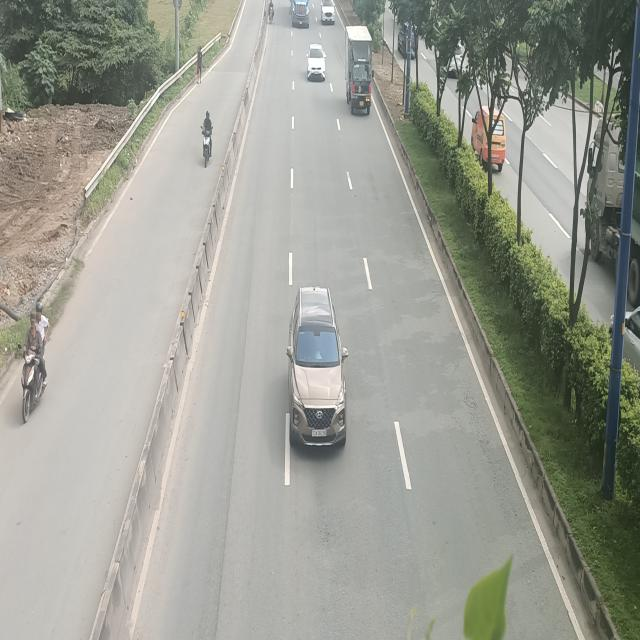car: (286, 286, 348, 448), (306, 44, 326, 78), (320, 0, 336, 25)
container: (292, 0, 310, 28)
truck: (345, 24, 374, 114)
